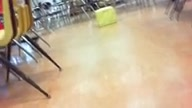cube: (95, 6, 117, 27)
